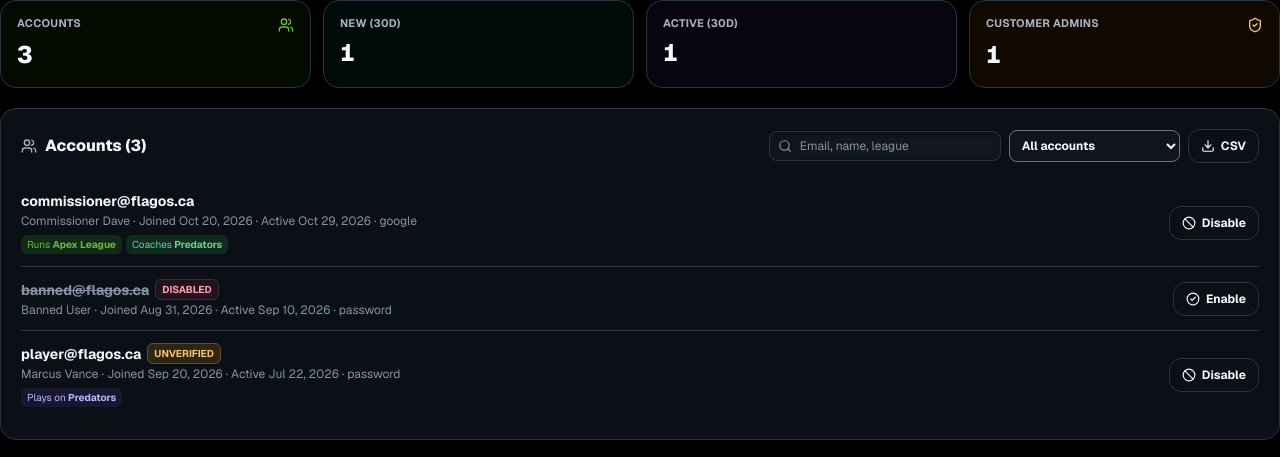
Test: AdminUsers Component Suite › filters users using search box and filter dropdown
Search by name
Type "Marcus" into the field named "Search accounts" at (896, 146), box [800,138,992,154]
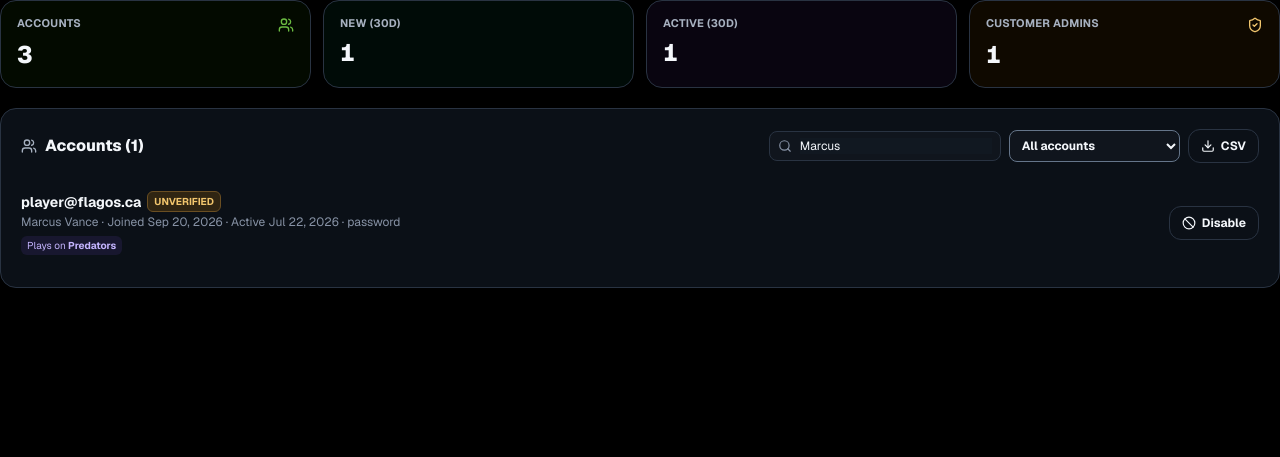
Expected: the text "player@flagos.ca" is shown, [21,192,141,212]
Now the text "commissioner@flagos.ca" is gone
Clear search
Clear the field named "Search accounts" at (896, 146), box [800,138,992,154]
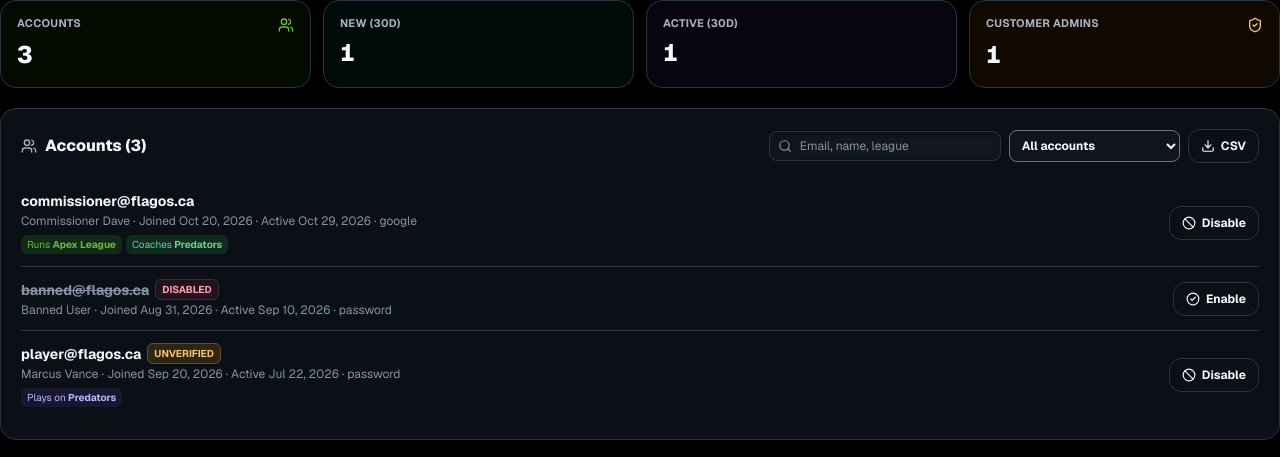
Filter by unverified
Select "Unverified email" in the dropdown named "Filter accounts" at (1094, 146), box [1009,130,1180,162]
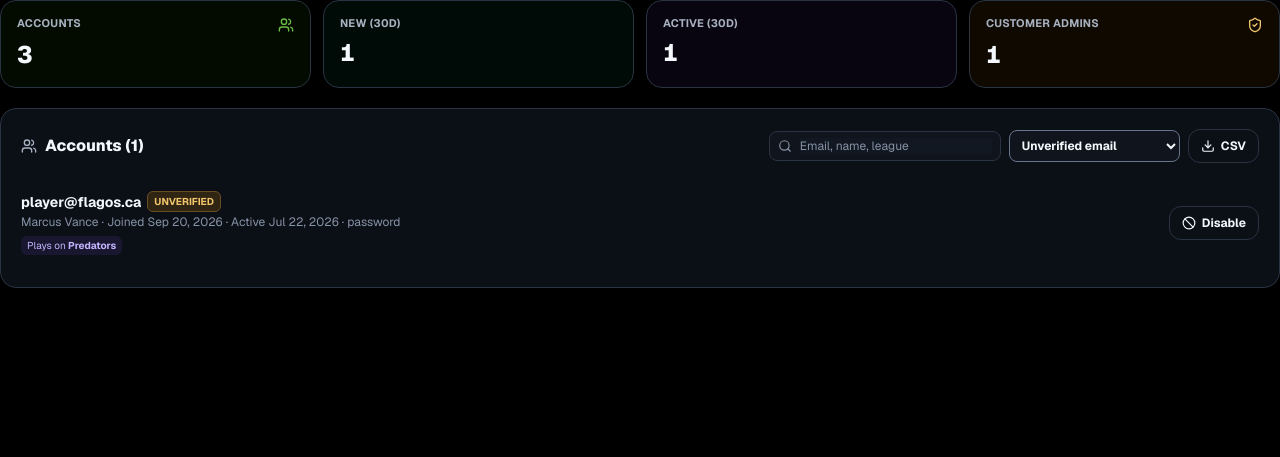
Expected: the text "player@flagos.ca" is shown, [21,192,141,212]
Now the text "commissioner@flagos.ca" is gone
Filter by disabled
Select "Disabled" in the dropdown named "Filter accounts" at (1094, 146), box [1009,130,1180,162]
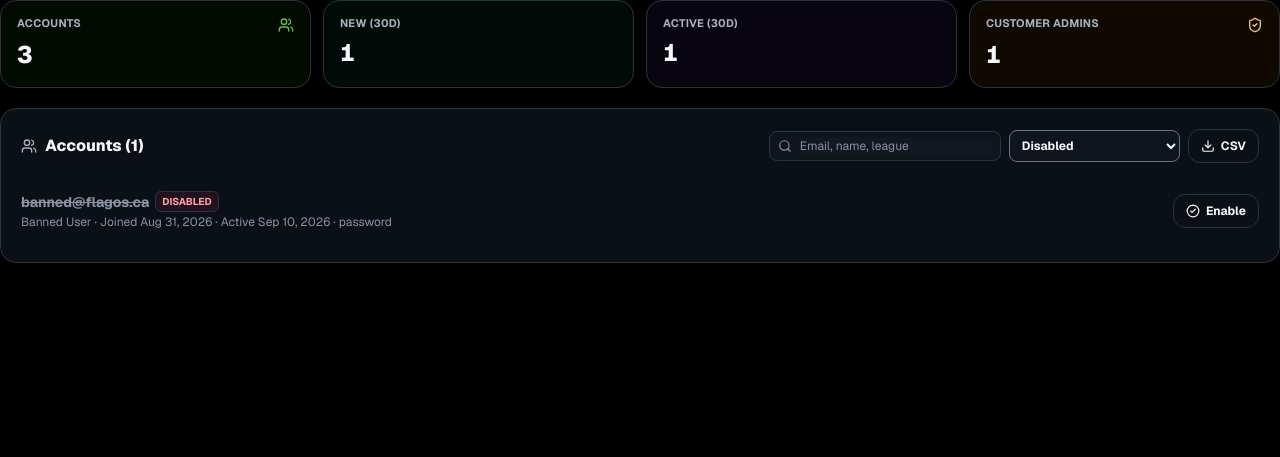
Now the text "banned@flagos.ca" is shown, box [21,192,149,212]
Now the text "player@flagos.ca" is gone
Filter by dormant
Select "Inactive 90+ days" in the dropdown named "Filter accounts" at (1094, 146), box [1009,130,1180,162]
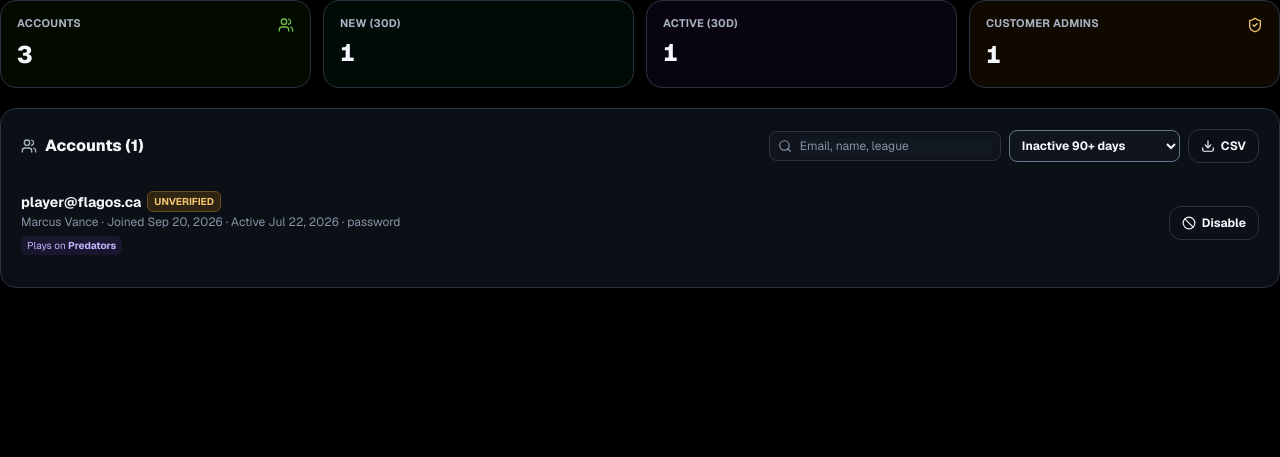
Now the text "player@flagos.ca" is shown, box [21,192,141,212]
